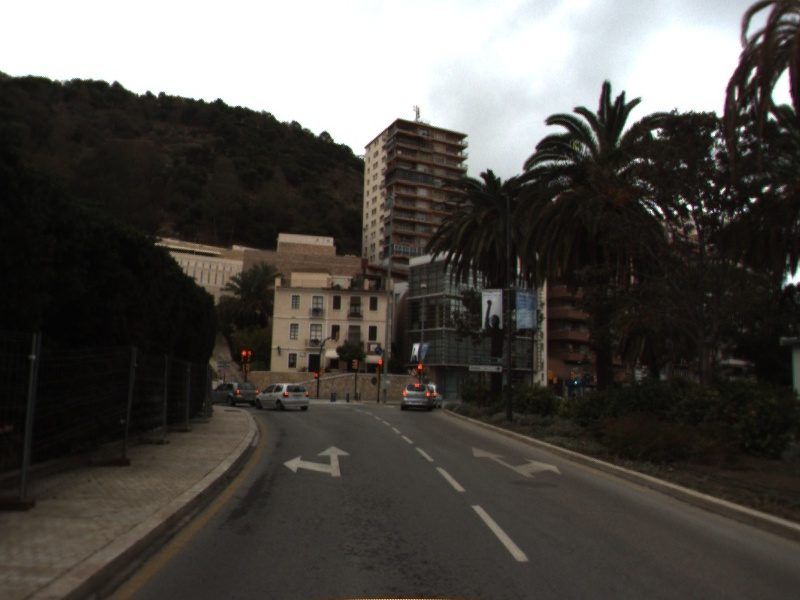STRAIGHT_LEFT: (281, 443, 353, 479)
STRAIGHT_RIGHT: (470, 444, 563, 479)
